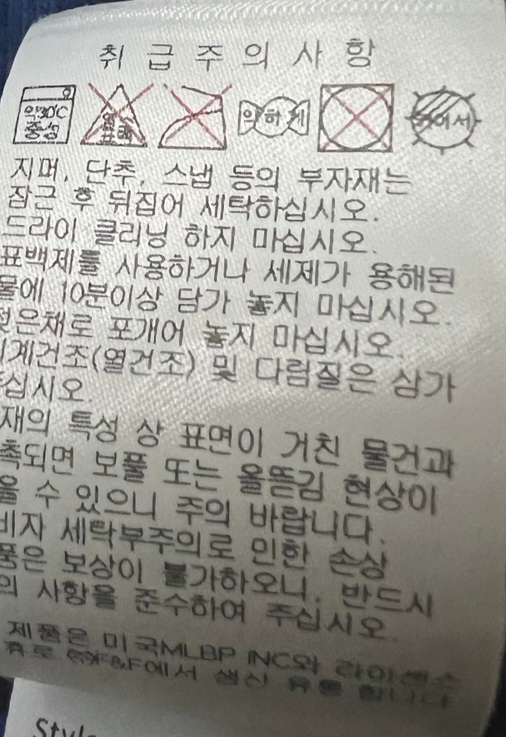KR_flat_dry_in_shade: (401, 80, 486, 157)
KR_gentle_wring: (236, 81, 310, 150)
KR_no_chlorine_bleach: (82, 77, 150, 152)
KR_no_iron: (154, 78, 231, 154)
KR_no_tumble_dry: (314, 76, 398, 161)
KR_no_wash: (12, 75, 77, 150)
